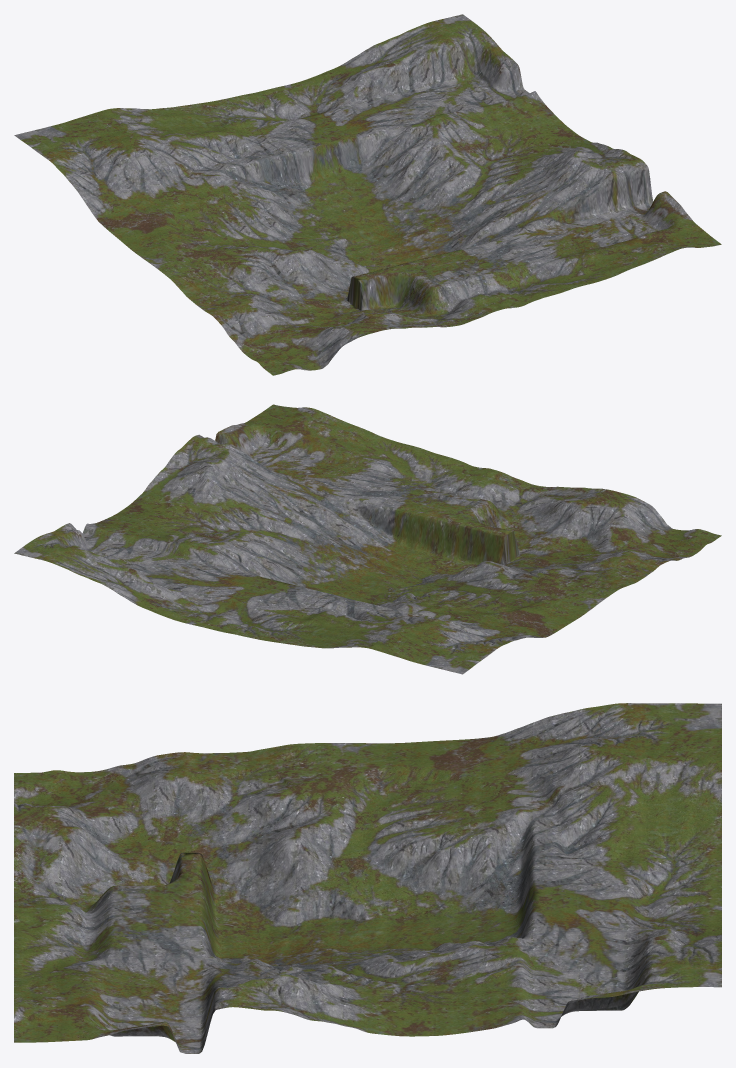
The model's file is hilly-terrain-b5292f5de8b4.glb.
3 renders of one model, top to bottom at view 1: azimuth 30°, elevation 25°; view 2: azimuth 150°, elevation 25°; view 3: azimuth 270°, elevation 25°, orthographic. The views are drawn at different scales.
Visible parts, largest first — view 1: hilly-terrain-surface; view 2: hilly-terrain-surface; view 3: hilly-terrain-surface.
Part boxes in pixels (box(x1,y1,x2,y2)): hilly-terrain-surface: box(14, 14, 721, 375); hilly-terrain-surface: box(14, 404, 721, 674); hilly-terrain-surface: box(14, 703, 721, 1053).
Size of the model in its own units: 200 by 34.47 by 200.
1 material, 1 textured.
